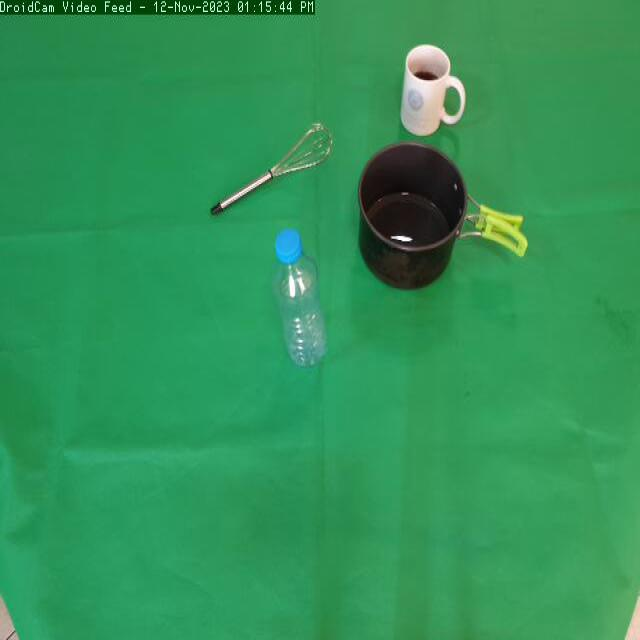bottle: (268, 220, 335, 386)
fullcup: (398, 42, 468, 142)
pot: (358, 138, 535, 306)
whisk: (203, 117, 337, 226)
